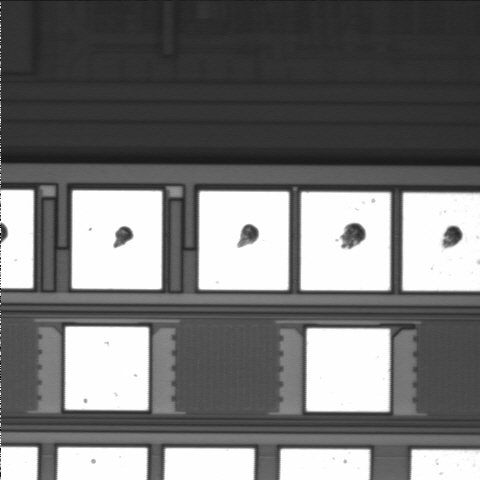pad: (199, 191, 289, 290), (72, 191, 162, 289), (301, 192, 390, 290), (306, 328, 390, 412), (65, 327, 149, 410)
